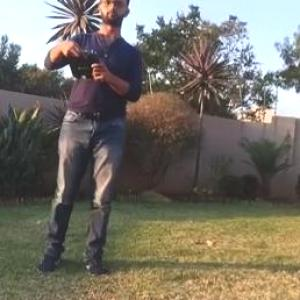follow: (32, 0, 149, 282)
